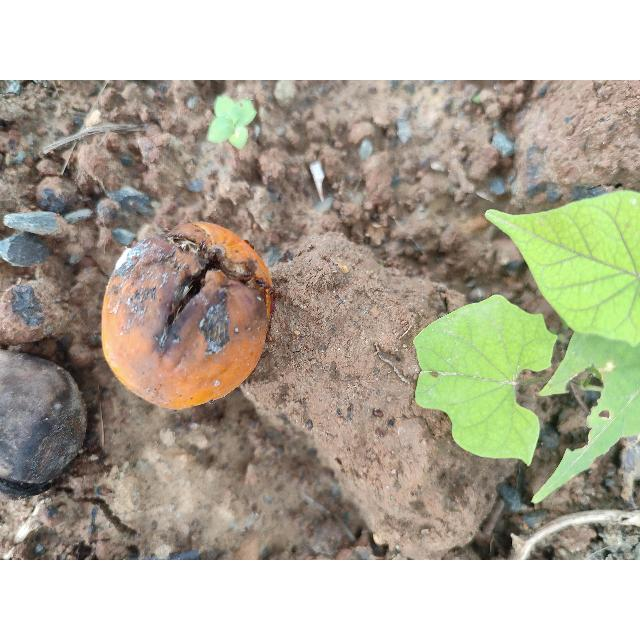damaged: (101, 223, 275, 409)
